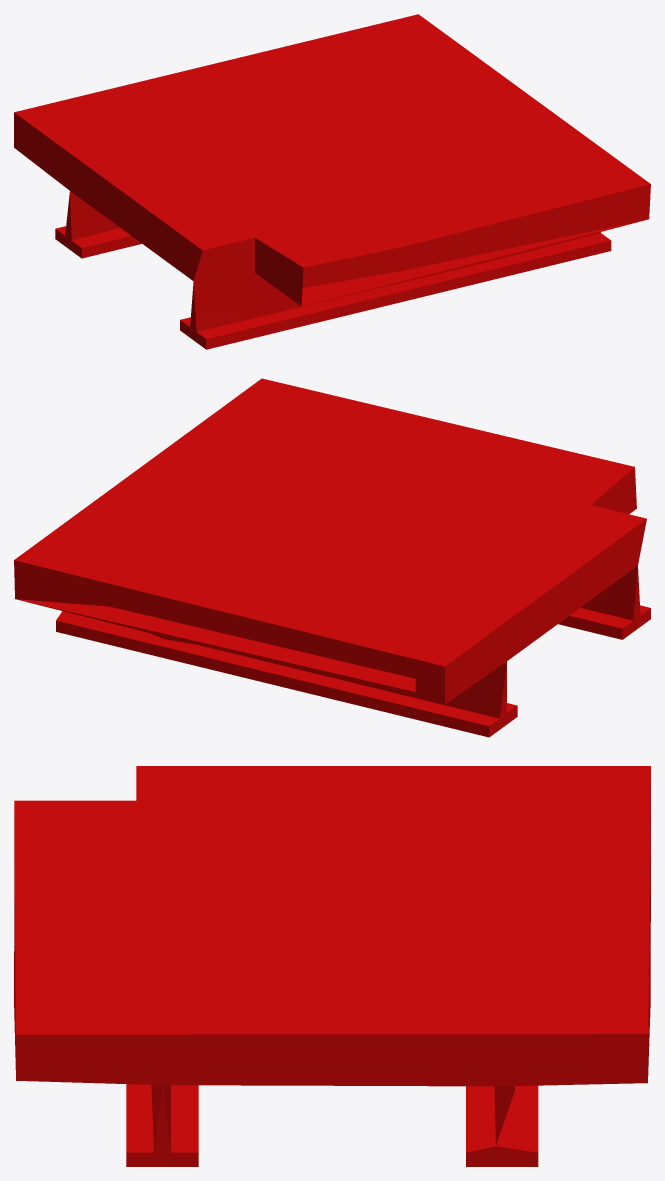
3 renders of one model, top to bottom at view 1: azimuth 30°, elevation 25°; view 2: azimuth 150°, elevation 25°; view 3: azimuth 270°, elevation 25°, orthographic. The views are drawn at different scales.
Visible parts, largest first — view 1: Mesh; view 2: Mesh; view 3: Mesh.
Part boxes in pixels (box(x1,y1,x2,y2)): Mesh: box(14, 14, 650, 349); Mesh: box(14, 378, 650, 737); Mesh: box(14, 766, 650, 1166).
Bounding box in the file's own units: 3.03 × 0.6976 × 3.
